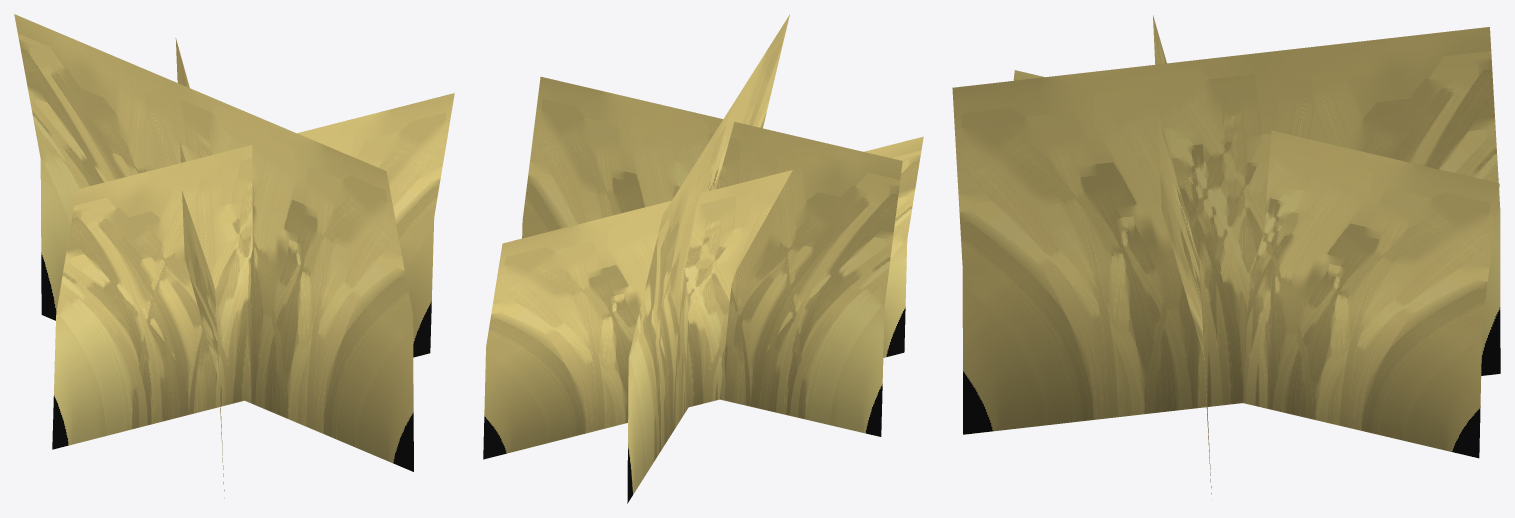
The model's file is desert_grass_1.glb.
The picture shows the model from 3 angles, left to right: view 1: azimuth 30°, elevation 25°; view 2: azimuth 150°, elevation 25°; view 3: azimuth 270°, elevation 25°; orthographic projection. The views are drawn at different scales.
Parts seen in each view (by area): view 1: desert_grass_1; view 2: desert_grass_1; view 3: desert_grass_1.
Boxes of the visible parts, box(x1,y1,x2,y2) form: desert_grass_1: box(14, 14, 454, 490); desert_grass_1: box(483, 14, 923, 503); desert_grass_1: box(952, 15, 1500, 493).
Size of the model in its own units: 0.5267 by 0.4105 by 0.6174.
1 material, 1 textured.
